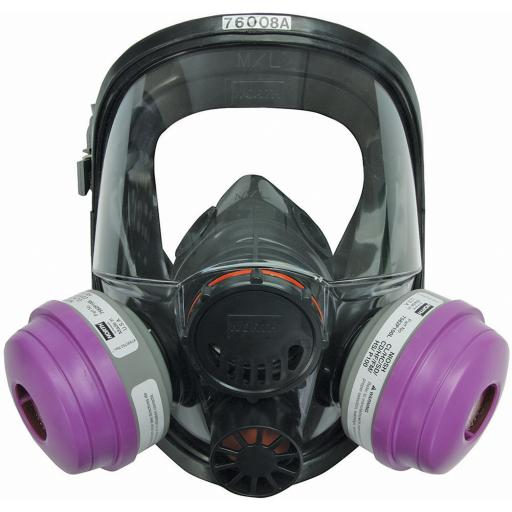mask: (3, 191, 508, 503)
